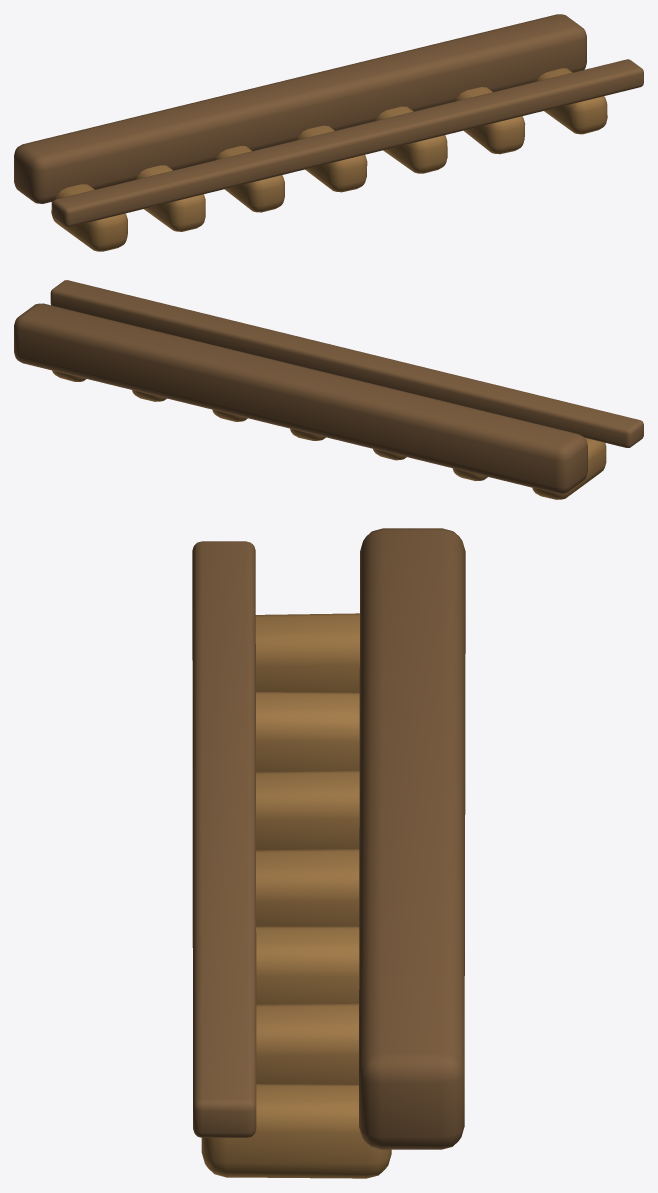
The model's file is tg_beam_ends.glb.
The picture shows the model from 3 angles, top to bottom: view 1: azimuth 30°, elevation 25°; view 2: azimuth 150°, elevation 25°; view 3: azimuth 270°, elevation 25°; orthographic projection. The views are drawn at different scales.
Visible parts, largest first — view 1: beam_ends; view 2: beam_ends; view 3: beam_ends.
Part boxes in pixels (<box>): beam_ends: <box>14,14,643,251</box>; beam_ends: <box>14,280,643,499</box>; beam_ends: <box>192,528,465,1178</box>.
Bounding box in the file's own units: 2.54 × 0.3027 × 0.5178.
